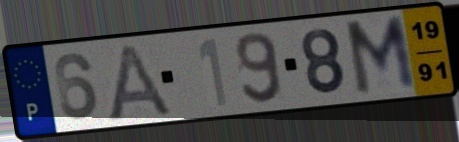1: (196, 36, 230, 108)
6: (52, 51, 103, 122)
8: (299, 27, 349, 97)
9: (233, 31, 284, 106)
A: (104, 41, 175, 123)
M: (341, 12, 420, 99)
